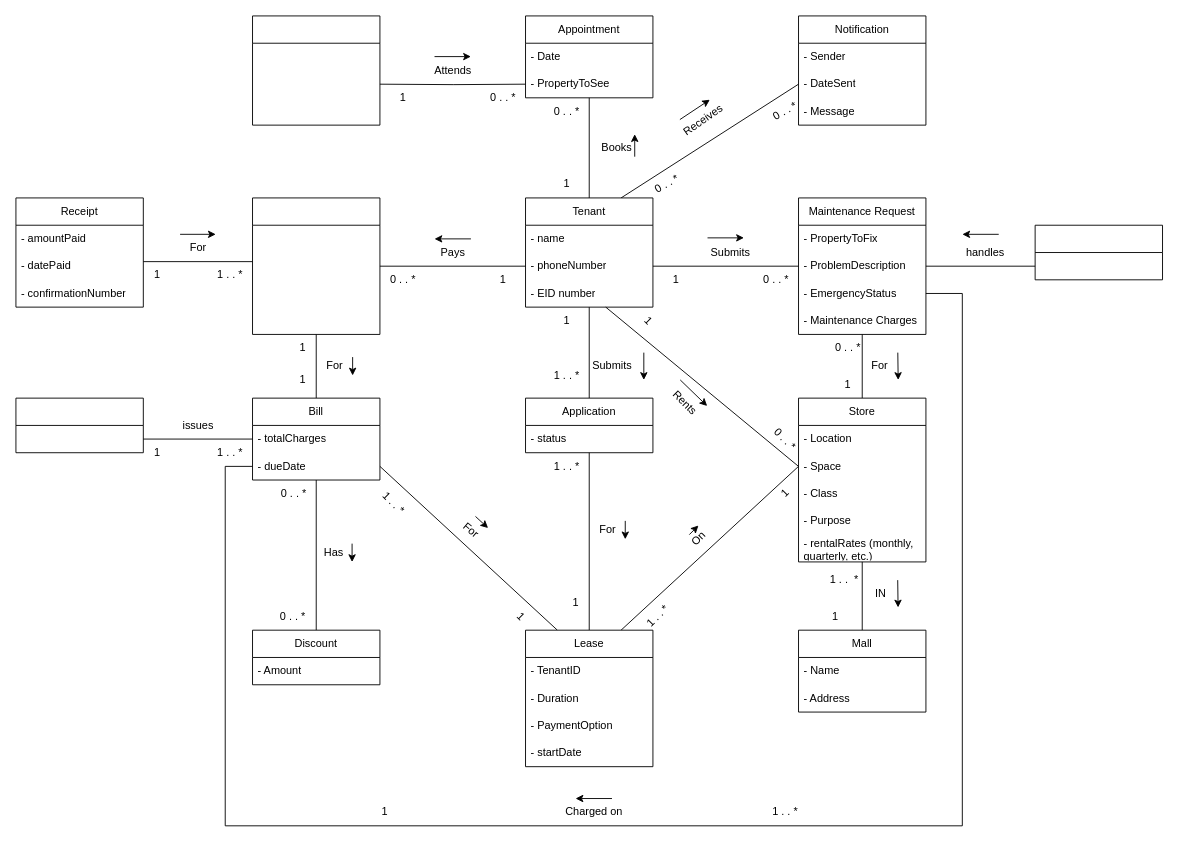
This 1178x843 diagram has some shape labels left out. Each missing label, with the centre of its shape:
"Accountant" belongs at pixel 79 425.
"Leasing Agent" belongs at pixel 316 70.
"Payment" belongs at pixel 316 265.
"Technician" belongs at pixel 1098 252.
